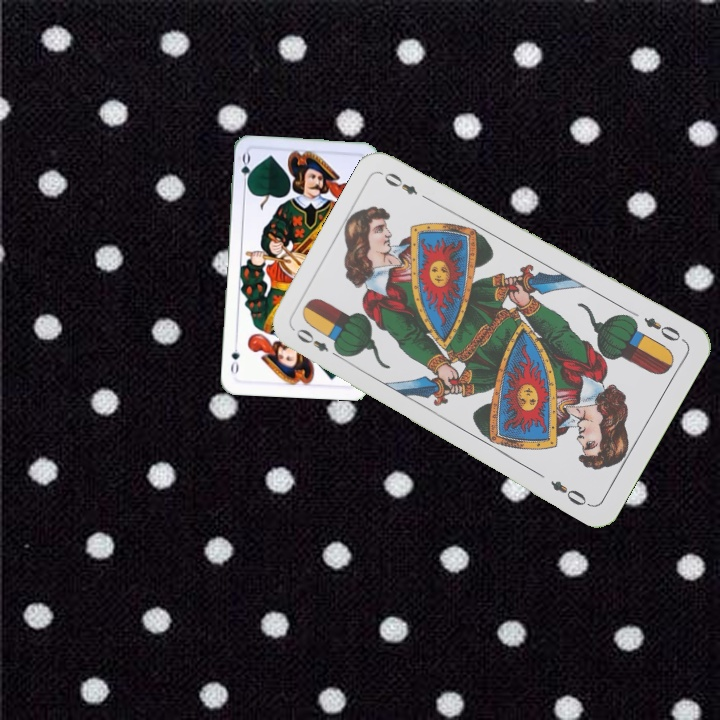EO: (291, 324, 345, 362), (639, 313, 688, 345)
GO: (237, 150, 253, 190)
